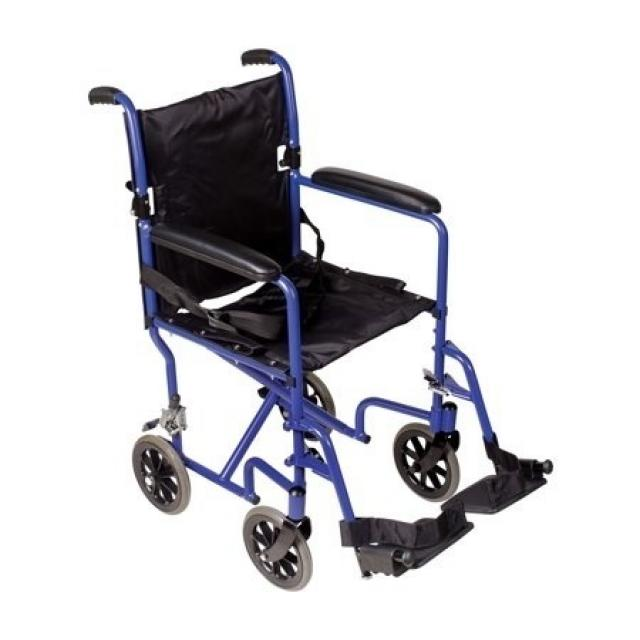wheelchair: (77, 41, 562, 598)
